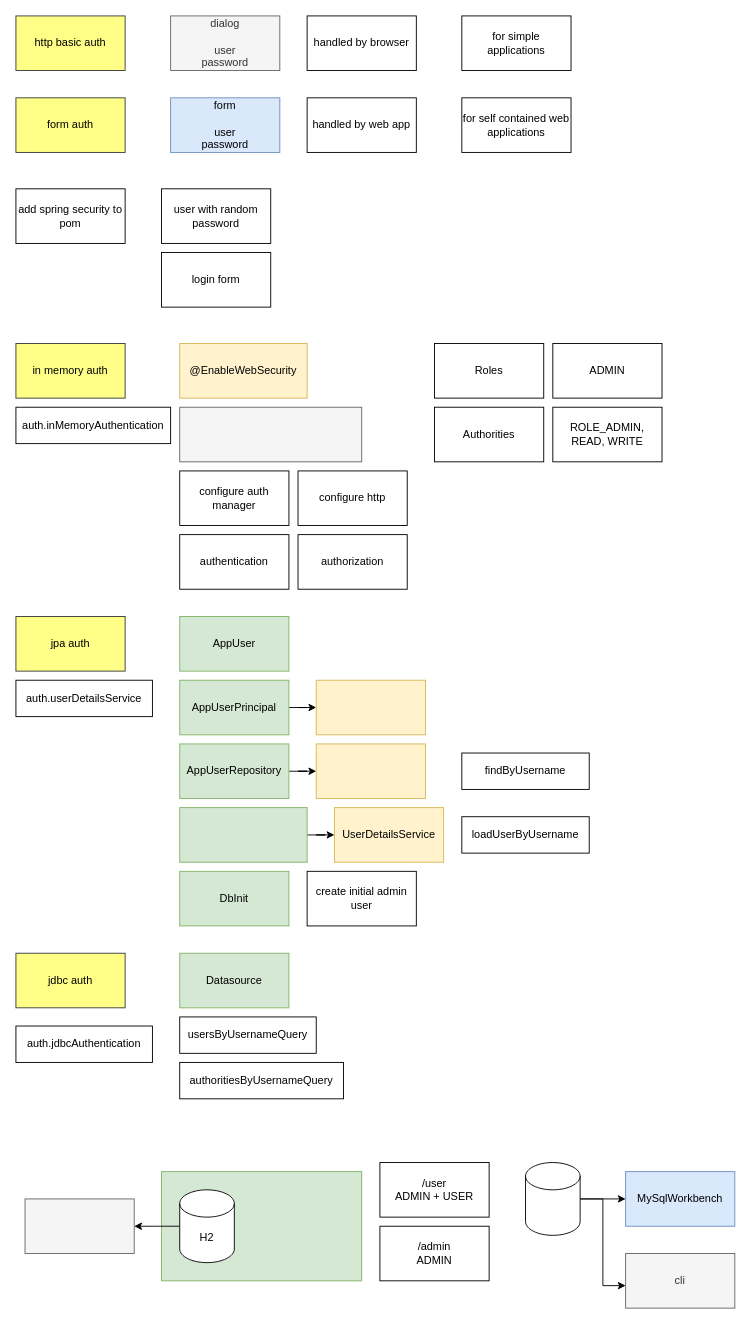
This 751x1324 diagram has some shape labels left out. The box of each missing label's shape, as (x1, y1, x2, y2) in pixels:
AppUserDetailsService: (179, 807, 307, 862)
H2 console /h2-console ADMIN: (24, 1198, 134, 1254)
JpaRepository: (315, 743, 425, 799)
MySQL: (525, 1162, 580, 1235)
Spring: (161, 1171, 362, 1281)
UserDetails: (315, 679, 425, 735)
WebSecurityConfigurerAdapter: (179, 406, 362, 462)
